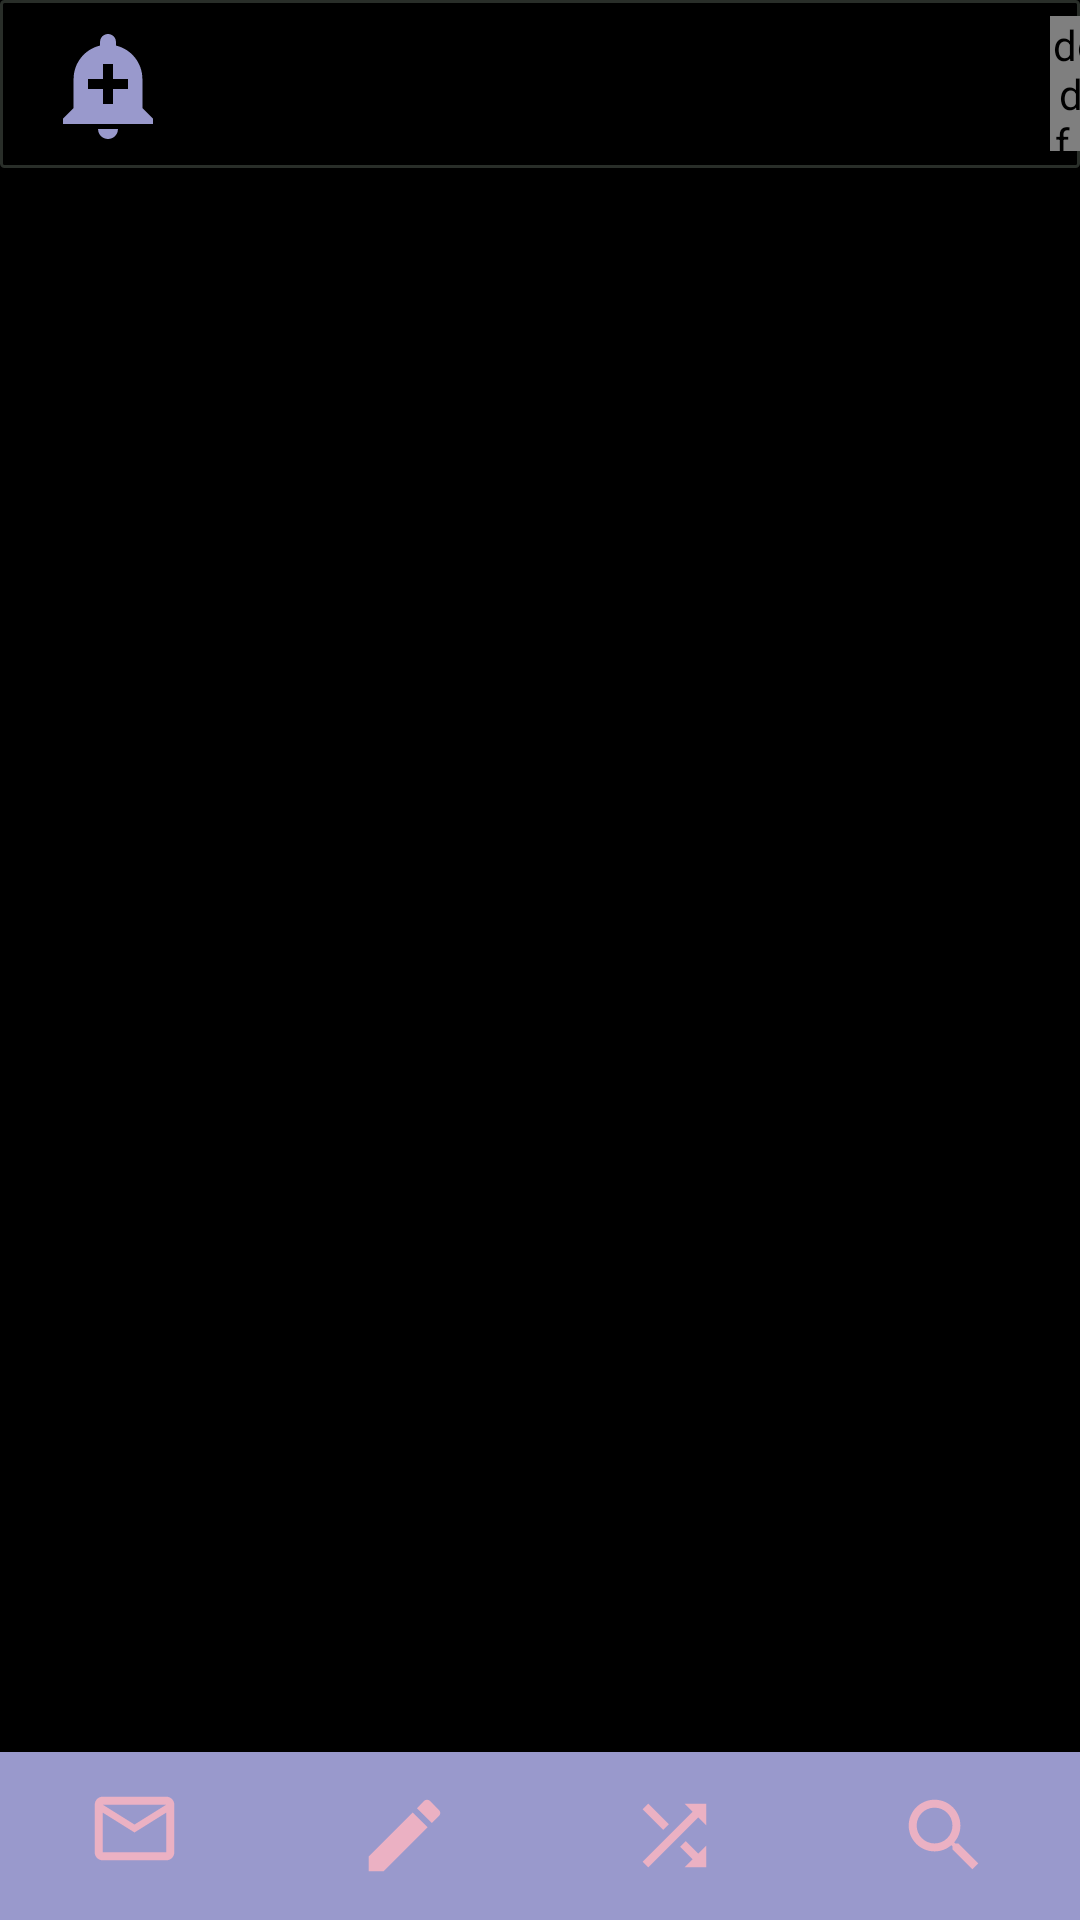

Locate icon controls on the screen. Image size 1080 × 1920, boxes as (x1, y1, x2, y2).
notification bell: (63, 34, 153, 139)
